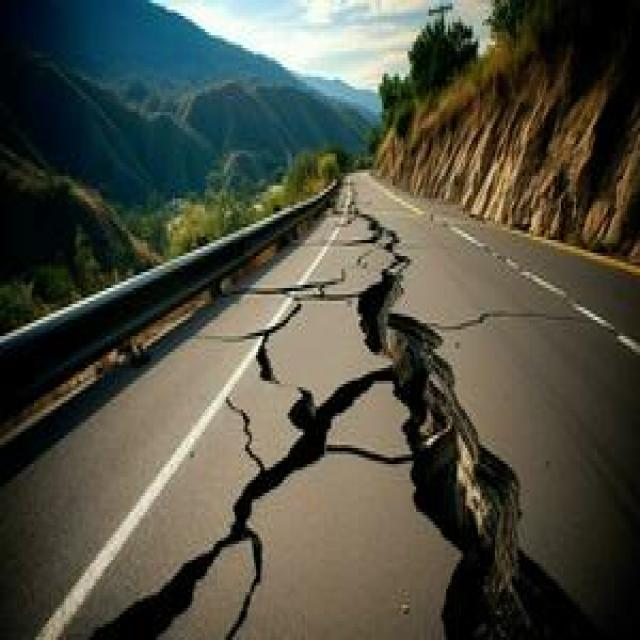road collapse: (23, 102, 640, 640)
